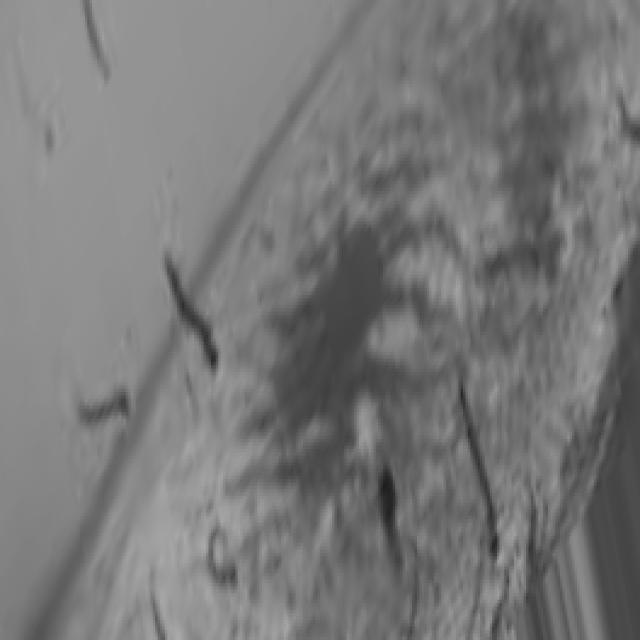larvas: (455, 380, 502, 548), (163, 250, 216, 367), (76, 382, 132, 427), (377, 470, 403, 563), (78, 0, 109, 77), (202, 530, 238, 593), (490, 244, 542, 271), (619, 89, 640, 142), (148, 580, 164, 640), (526, 498, 536, 569)
